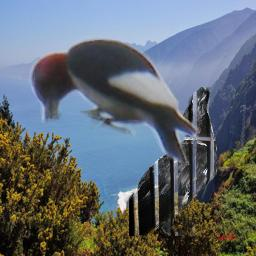Crow: (129, 87, 217, 236)
Woodpecker: (24, 34, 204, 168)
